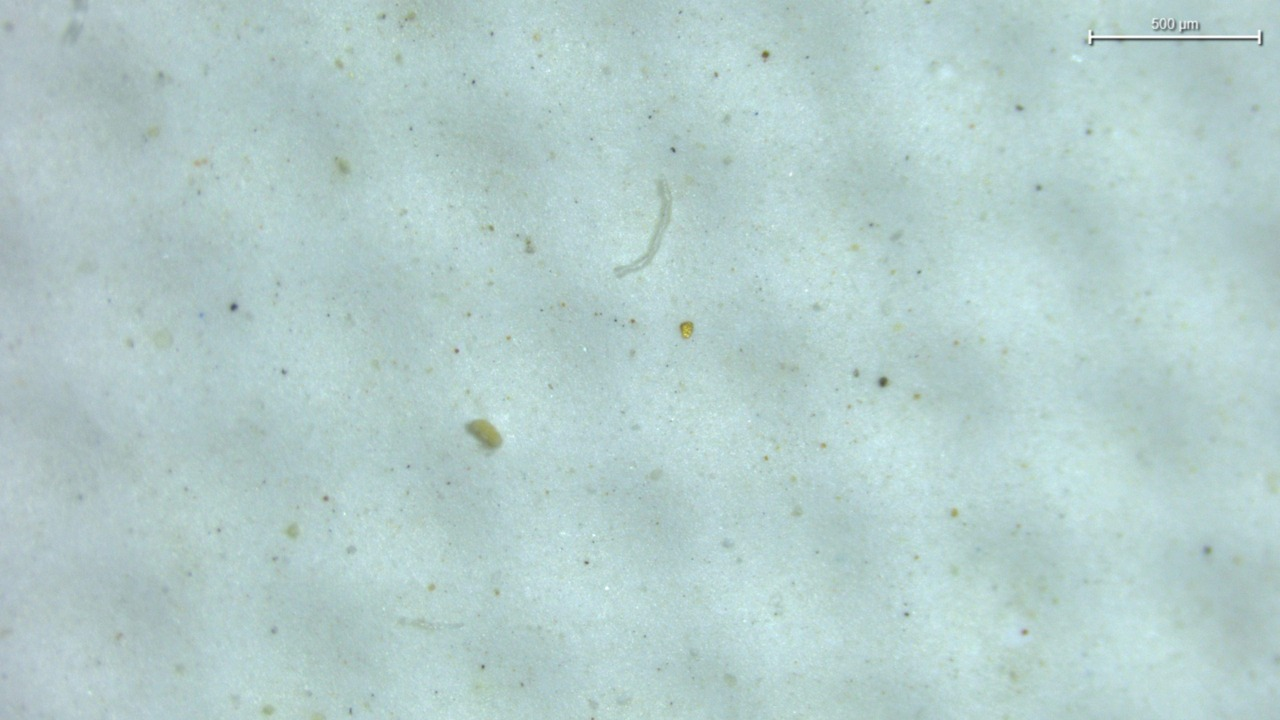microplastic_fragment: (680, 321, 693, 338)
